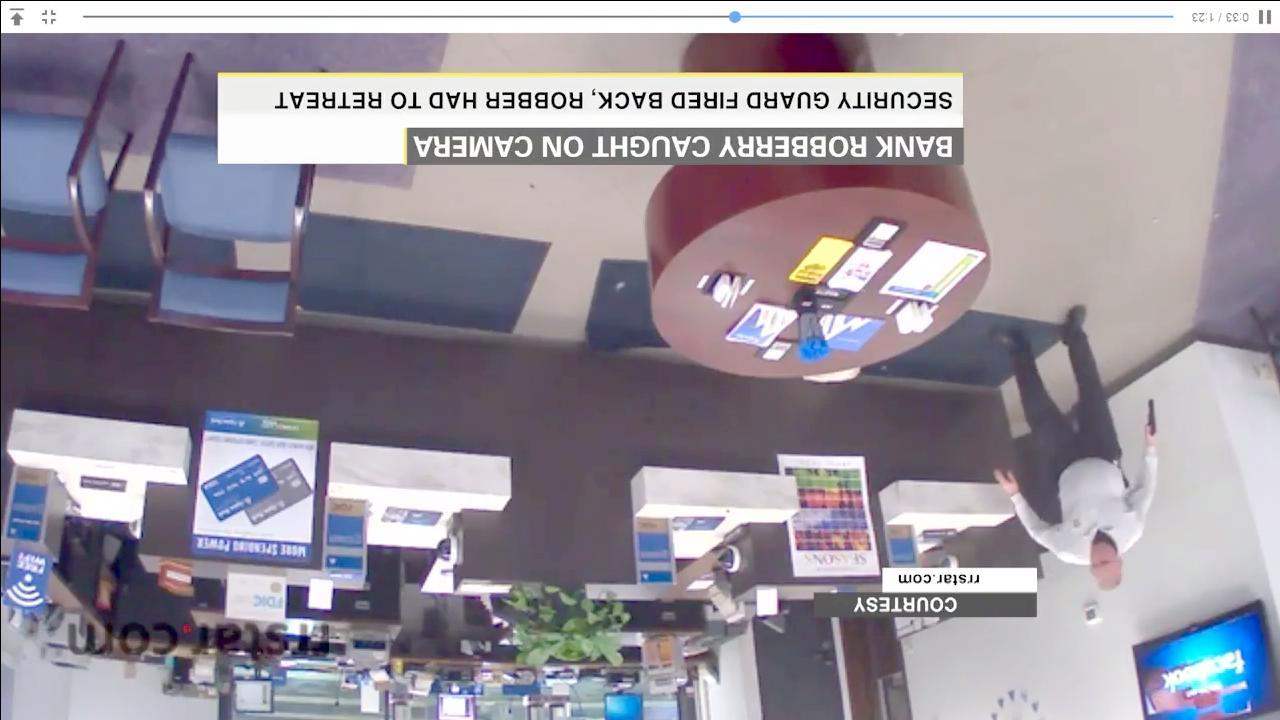gun: (1136, 393, 1160, 446)
